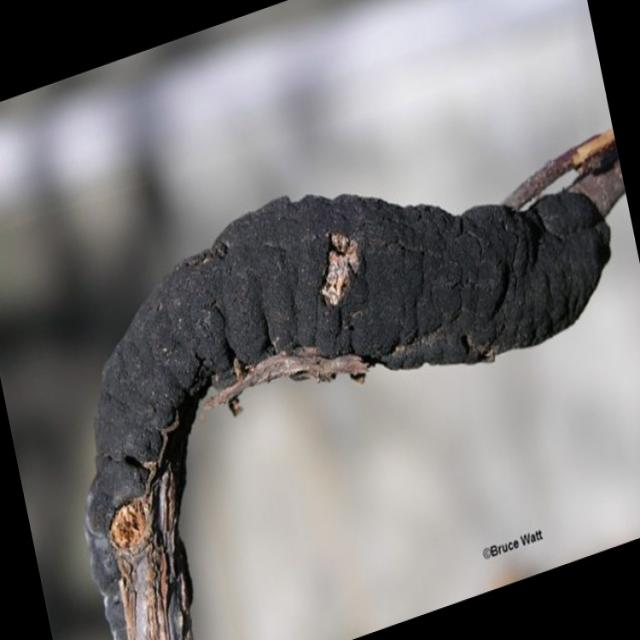Black_knot: (82, 184, 612, 636), (318, 229, 363, 309)
